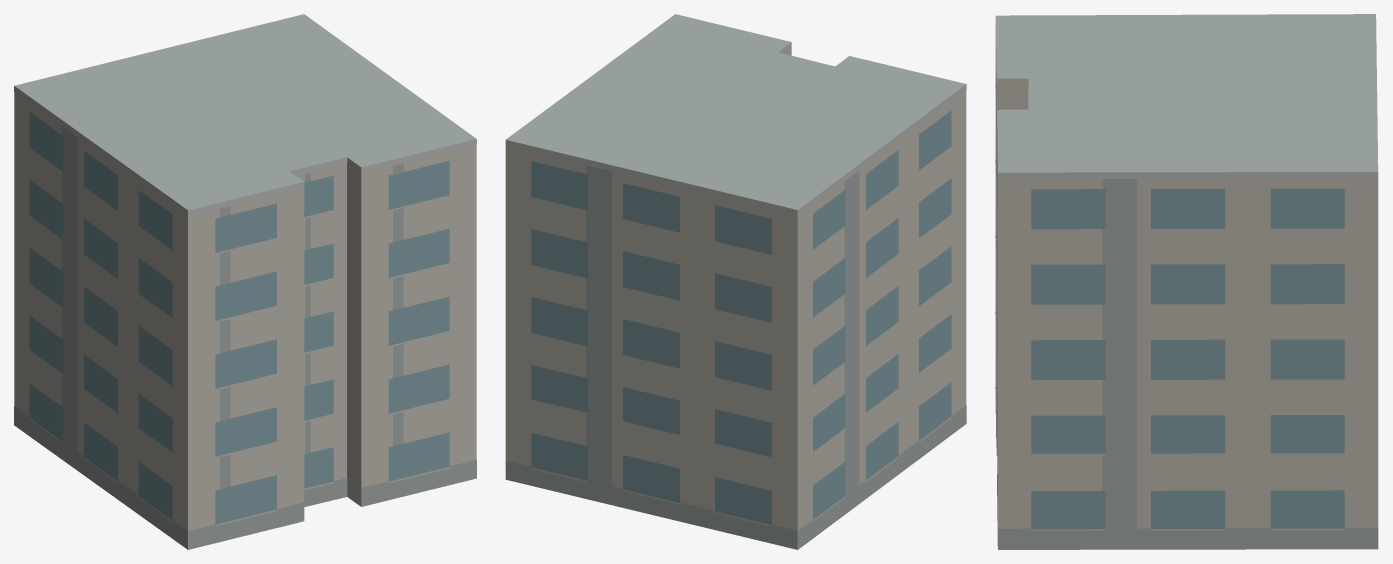
File: survey-upis-32838180.glb
3 views of the same model, side by side, from view 1: azimuth 30°, elevation 25°; view 2: azimuth 150°, elevation 25°; view 3: azimuth 270°, elevation 25° (orthographic). The views are drawn at different scales.
Visible parts, largest first — view 1: survey-upis-32838180.tmp; view 2: survey-upis-32838180.tmp; view 3: survey-upis-32838180.tmp.
Boxes of the visible parts, bbox=[...] form: survey-upis-32838180.tmp: bbox=[14, 14, 476, 549]; survey-upis-32838180.tmp: bbox=[505, 14, 966, 549]; survey-upis-32838180.tmp: bbox=[995, 14, 1378, 549].
Bounding box in the file's own units: 12.27 × 13.6 × 12.51.
